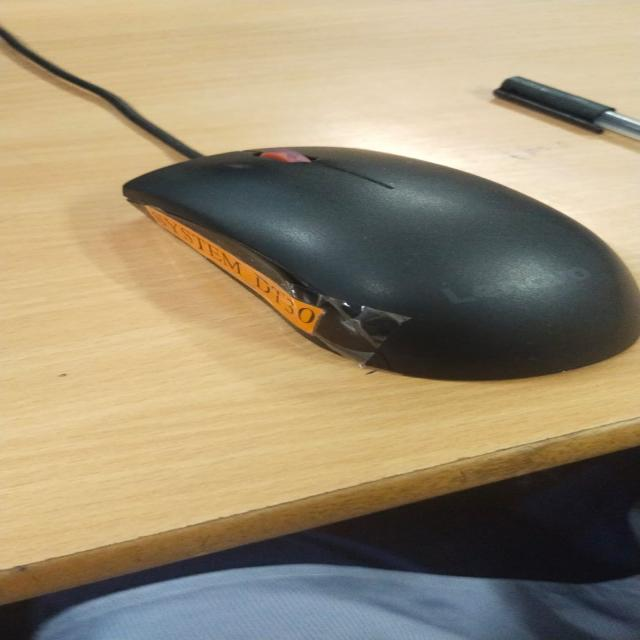Mouse: (121, 134, 640, 428), (457, 70, 640, 162)
